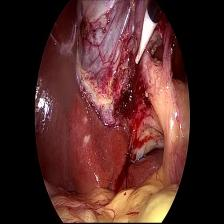Hook: (134, 7, 156, 69)
